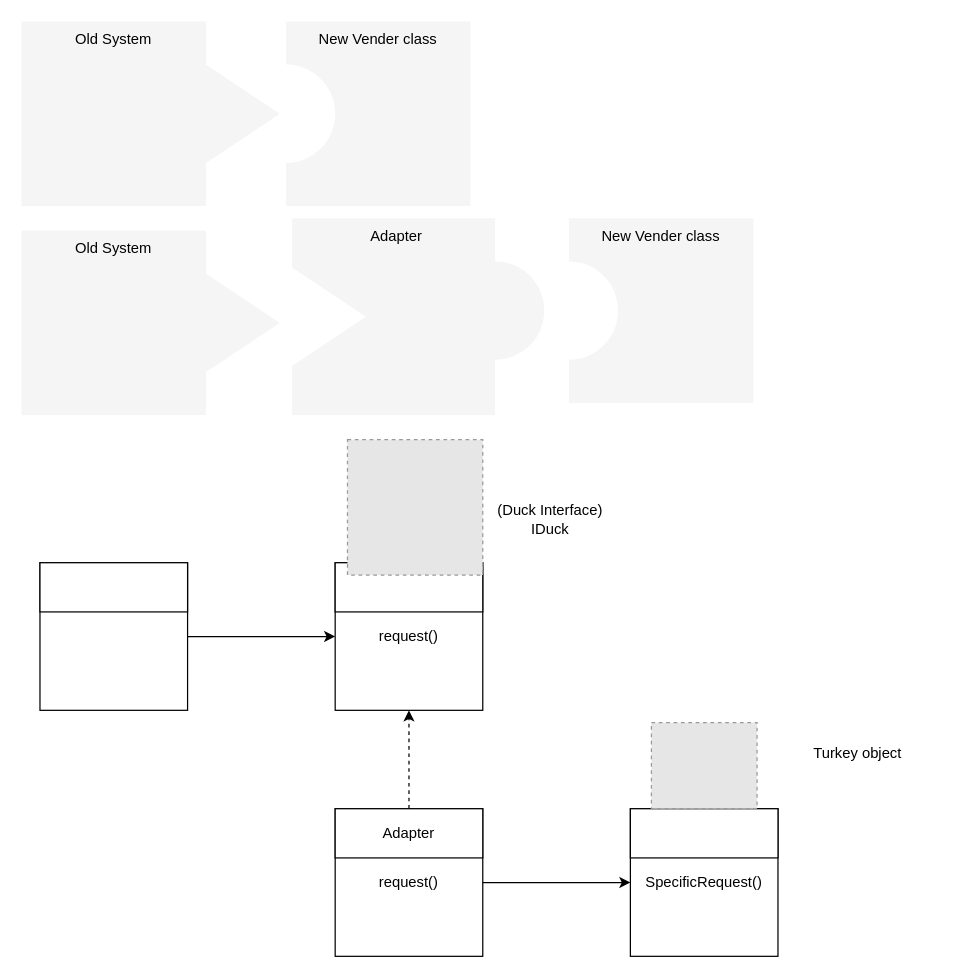
This 958x978 diagram has some shape labels left out. Grey dashed boxes stand in for pictures. Here are the shapes that lost their labels. From the top down, the centre of each, then its label:
At [113,586]: "Client".
At [408,586]: "<<Interface>> Target".
At [703,832]: "Adaptee".
